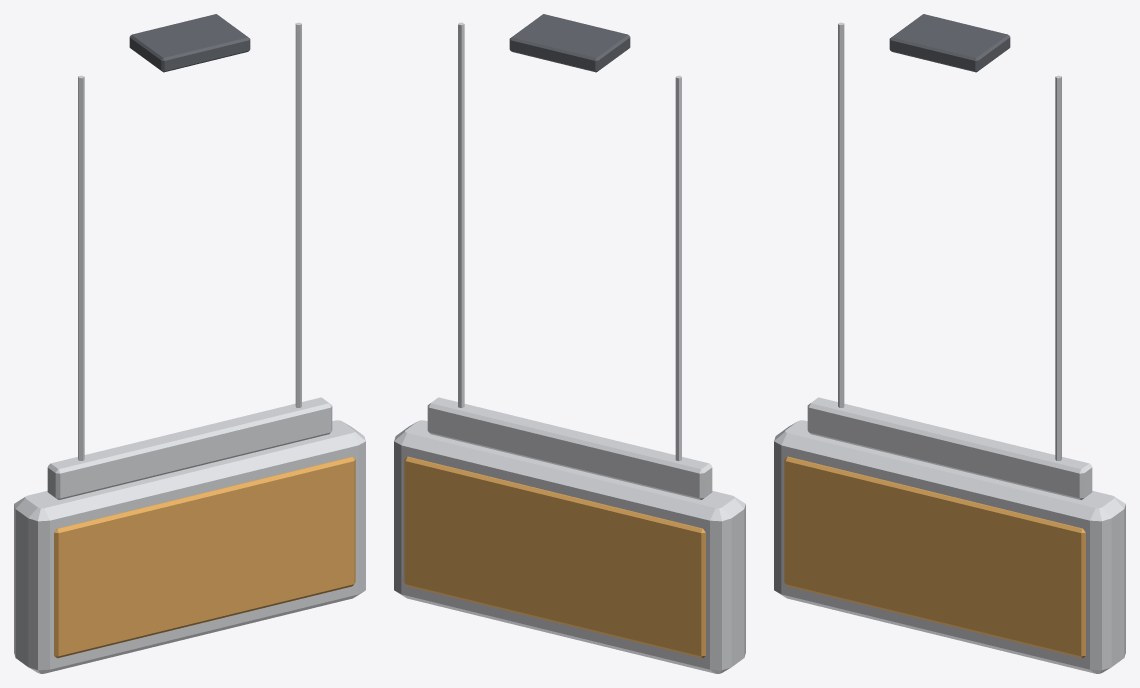
Rendered from office-lobby-and-facilities-illuminated-exit-box-f52617fa__26325.glb.
The picture shows the model from 3 angles, left to right: view 1: azimuth 30°, elevation 25°; view 2: azimuth 150°, elevation 25°; view 3: azimuth 330°, elevation 25°; orthographic projection.
Parts seen in each view (by area): view 1: illuminated-exit-box; view 2: illuminated-exit-box; view 3: illuminated-exit-box.
Boxes of the visible parts, x1=… form: illuminated-exit-box: x1=14, y1=14, x2=365, y2=673; illuminated-exit-box: x1=394, y1=14, x2=745, y2=673; illuminated-exit-box: x1=774, y1=14, x2=1125, y2=673.
Bounding box in the file's own units: 0.34 × 0.574 × 0.06.
